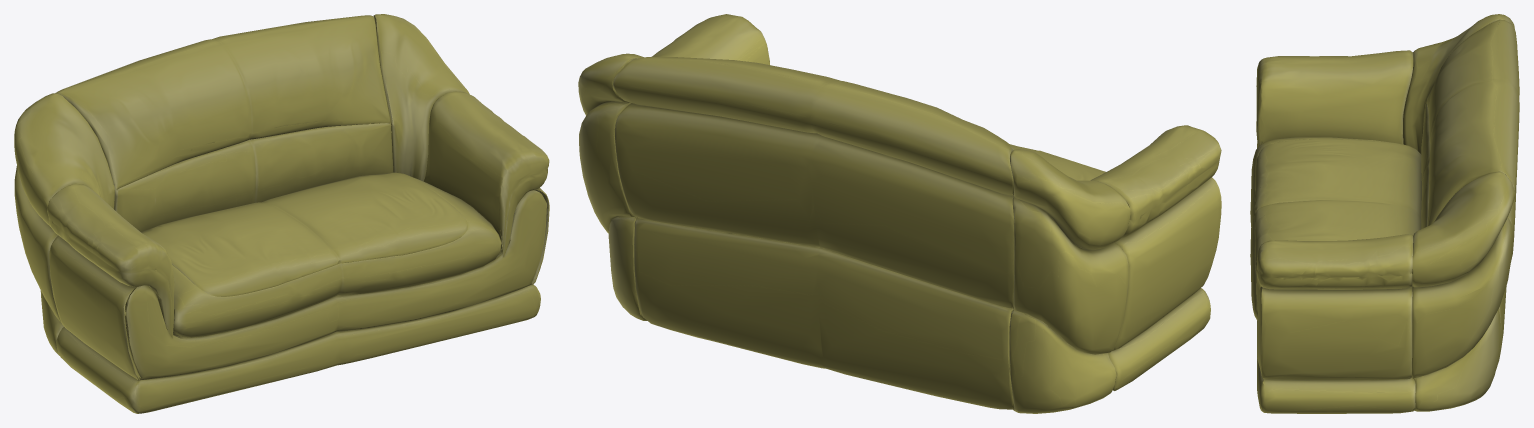
Rendered from raw_model.obj.
3 renders of one model, left to right at view 1: azimuth 30°, elevation 25°; view 2: azimuth 150°, elevation 25°; view 3: azimuth 270°, elevation 25°, orthographic. The views are drawn at different scales.
Parts seen in each view (by area): view 1: solid_001; view 2: solid_001; view 3: solid_001.
Part boxes in pixels (x1=…): solid_001: x1=14, y1=14, x2=549, y2=413; solid_001: x1=578, y1=14, x2=1221, y2=413; solid_001: x1=1250, y1=14, x2=1519, y2=413.
Size of the model in its own units: 1.75 by 0.9189 by 0.9443.
Materials: 1 (1 with a texture image).
